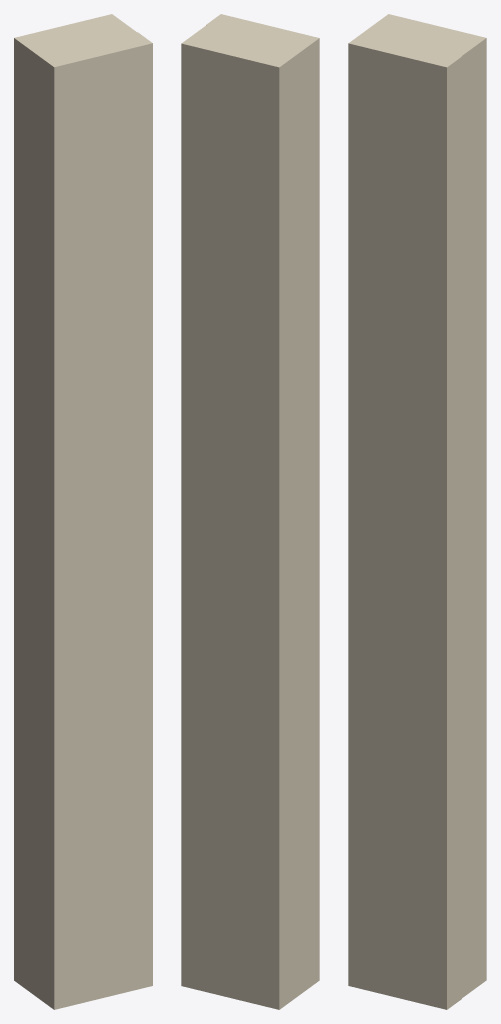
3 renders of one model, left to right at view 1: azimuth 30°, elevation 25°; view 2: azimuth 150°, elevation 25°; view 3: azimuth 330°, elevation 25°, orthographic.
Visible parts, largest first — view 1: A-GF-WALL-022; view 2: A-GF-WALL-022; view 3: A-GF-WALL-022.
Part boxes in pixels (<box>): A-GF-WALL-022: <box>14,14,152,1009</box>; A-GF-WALL-022: <box>181,14,319,1009</box>; A-GF-WALL-022: <box>348,14,486,1009</box>.
Size of the model in its own units: 0.298 by 2.72 by 0.21.
